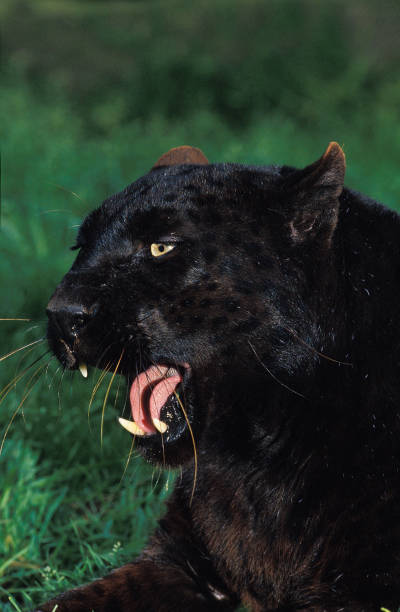panther: (23, 139, 367, 486)
